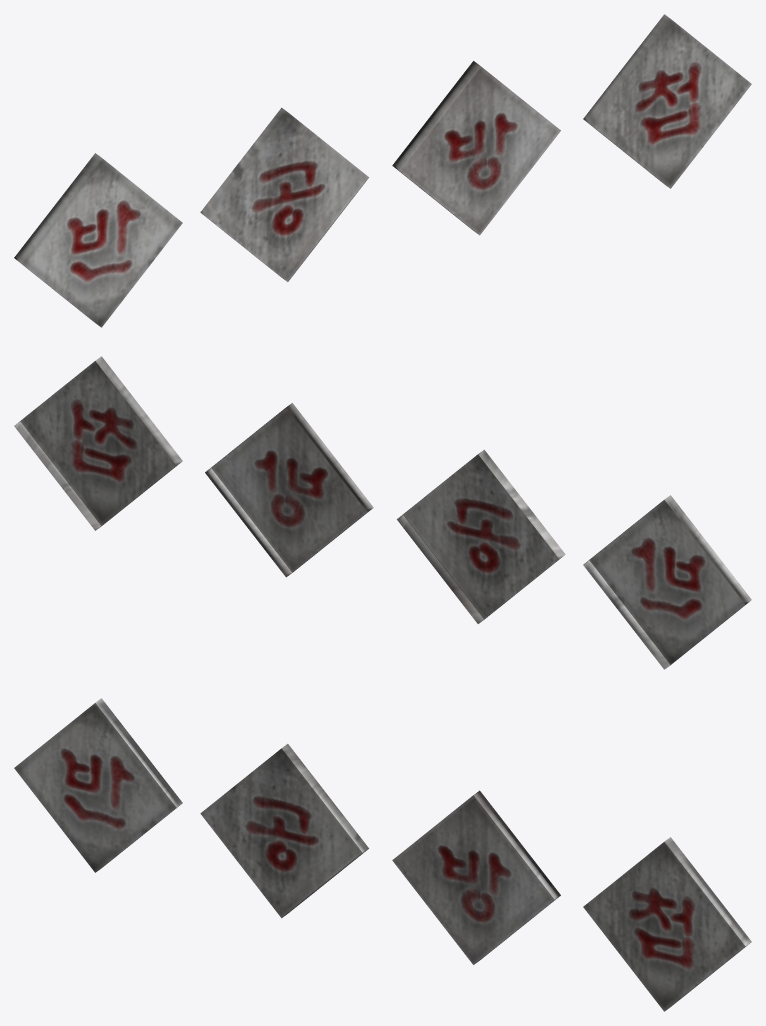
File: bangong.FBX
The picture shows the model from 3 angles, top to bottom: view 1: azimuth 30°, elevation 25°; view 2: azimuth 150°, elevation 25°; view 3: azimuth 330°, elevation 25°; orthographic projection.
Visible parts, largest first — view 1: Box001, Box002, Box004, Box003; view 2: Box001, Box002, Box004, Box003; view 3: Box001, Box002, Box004, Box003.
Boxes of the visible parts, left/top/right/bottom form: Box001: left=14, top=153, right=182, bottom=327; Box002: left=200, top=107, right=368, bottom=281; Box004: left=583, top=14, right=751, bottom=188; Box003: left=392, top=61, right=560, bottom=235; Box001: left=583, top=495, right=751, bottom=669; Box002: left=397, top=449, right=565, bottom=623; Box004: left=14, top=356, right=182, bottom=530; Box003: left=205, top=403, right=373, bottom=577; Box001: left=14, top=698, right=182, bottom=872; Box002: left=200, top=744, right=368, bottom=918; Box004: left=583, top=837, right=751, bottom=1011; Box003: left=392, top=790, right=560, bottom=964.
Bounding box in the file's own units: 127 × 28.26 × 1.91.
Materials: 1 (1 with a texture image).
